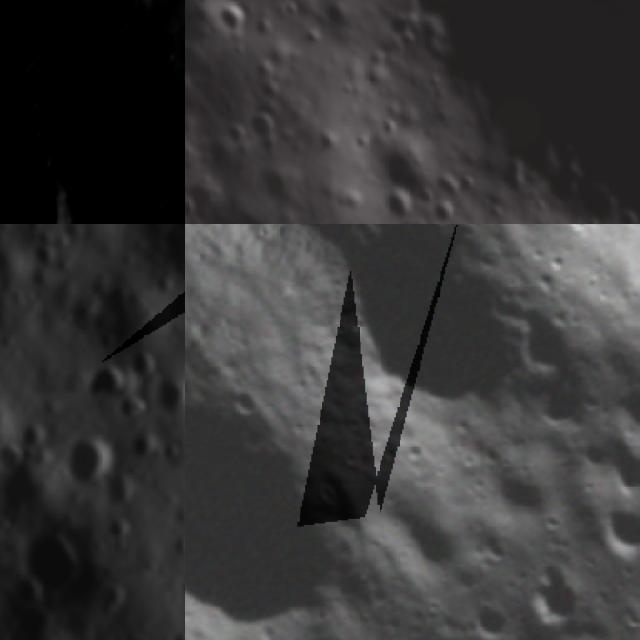crater: (356, 120, 448, 218), (0, 148, 107, 224), (0, 524, 97, 605), (47, 424, 112, 502), (519, 565, 582, 628), (256, 157, 314, 220), (72, 349, 130, 405), (185, 167, 235, 224), (233, 101, 286, 150), (595, 501, 640, 558), (304, 116, 354, 167), (198, 131, 246, 184), (495, 154, 539, 208), (206, 0, 258, 45), (375, 180, 422, 224), (247, 68, 290, 110), (406, 0, 460, 29), (453, 164, 486, 200), (245, 52, 280, 85), (428, 195, 464, 224), (128, 348, 156, 384), (613, 606, 640, 637), (273, 0, 305, 26), (609, 200, 640, 224), (362, 0, 399, 12)
